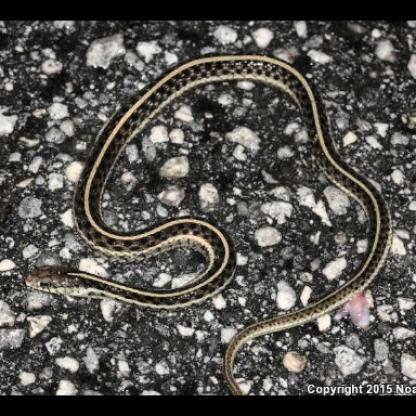Snake: (23, 42, 380, 377)
